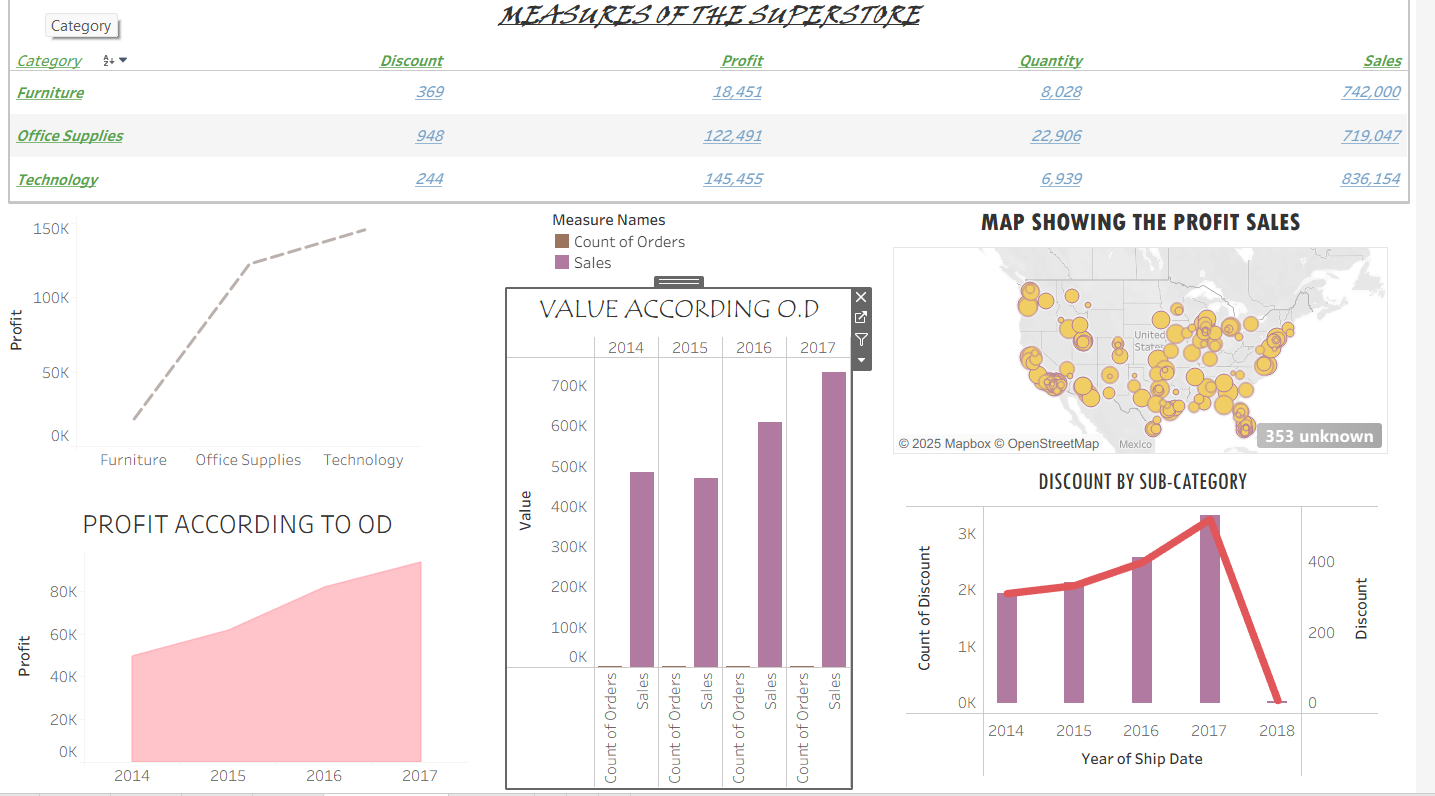

What the dashboard file says about the page in this screenshot:
{"tool":"tableau","page":{"name":"Dashboard 1","canvas":[1000,1000],"units":"permille","ordinal":0},"visuals":[{"type":"worksheet","title":"Sheet 3","mark":"Automatic","rows":["Category"],"box":[9.9,3.7,984.5,259.4]},{"type":"worksheet","title":"Sheet 2","mark":"Automatic","box":[631.7,265.6,348.6,311.7]},{"type":"legend","title":"Sheet 5","param":"[federated.03muipq07e2re51ftjspp0rw5zfk].[:Measure Names]","box":[391.6,271.8,197.2,94.8]},{"type":"worksheet","title":"Sheet 1","mark":"Line","rows":["Profit"],"cols":["Category"],"box":[1.4,281.8,298.6,335.4]},{"type":"worksheet","title":"Sheet 5","mark":"Bar","cols":["Order Date"],"box":[359.9,371.6,242.2,622.2]},{"type":"worksheet","title":"Sheet 6","mark":"Automatic","rows":["Discount","Discount"],"cols":["Ship Date"],"box":[640.9,589.8,333.1,390.3]},{"type":"worksheet","title":"Sheet 4","mark":"Area","rows":["Profit"],"cols":["Order Date"],"box":[7,637.2,326.1,355.4]}]}

Visuals, with their boxes on the dashboard's canvas, which has no fixed pixel size, in thousandths of its width and height (x1, y1, x2, y2). These are canvas units, not pixel positions in the 1435x796 screenshot, which may show the page scaled, cropped or inside an application window:
"Sheet 3" worksheet: (x1=10, y1=4, x2=994, y2=263)
"Sheet 2" worksheet: (x1=632, y1=266, x2=980, y2=577)
"Sheet 5" legend: (x1=392, y1=272, x2=589, y2=367)
"Sheet 1" worksheet (Line marks): (x1=1, y1=282, x2=300, y2=617)
"Sheet 5" worksheet (Bar marks): (x1=360, y1=372, x2=602, y2=994)
"Sheet 6" worksheet: (x1=641, y1=590, x2=974, y2=980)
"Sheet 4" worksheet (Area marks): (x1=7, y1=637, x2=333, y2=993)
